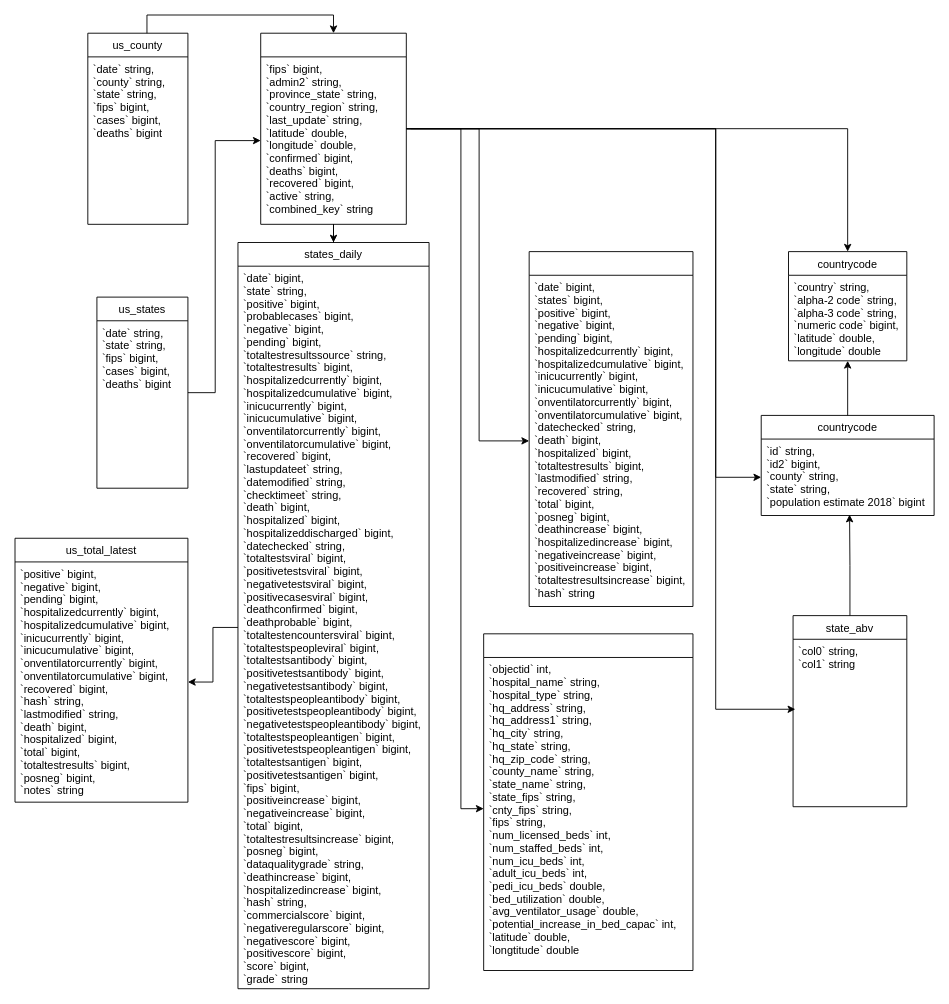
The diagram is 949 pixels wide and 1004 high, and some of its shapes have lost their labels. The box of each missing label's shape, as (x1, y1, x2, y2) in pixels:
enigma_jhu: (260, 32, 406, 224)
rearc_usa_hospital_beds: (483, 633, 693, 971)
us_daily: (528, 251, 693, 607)
